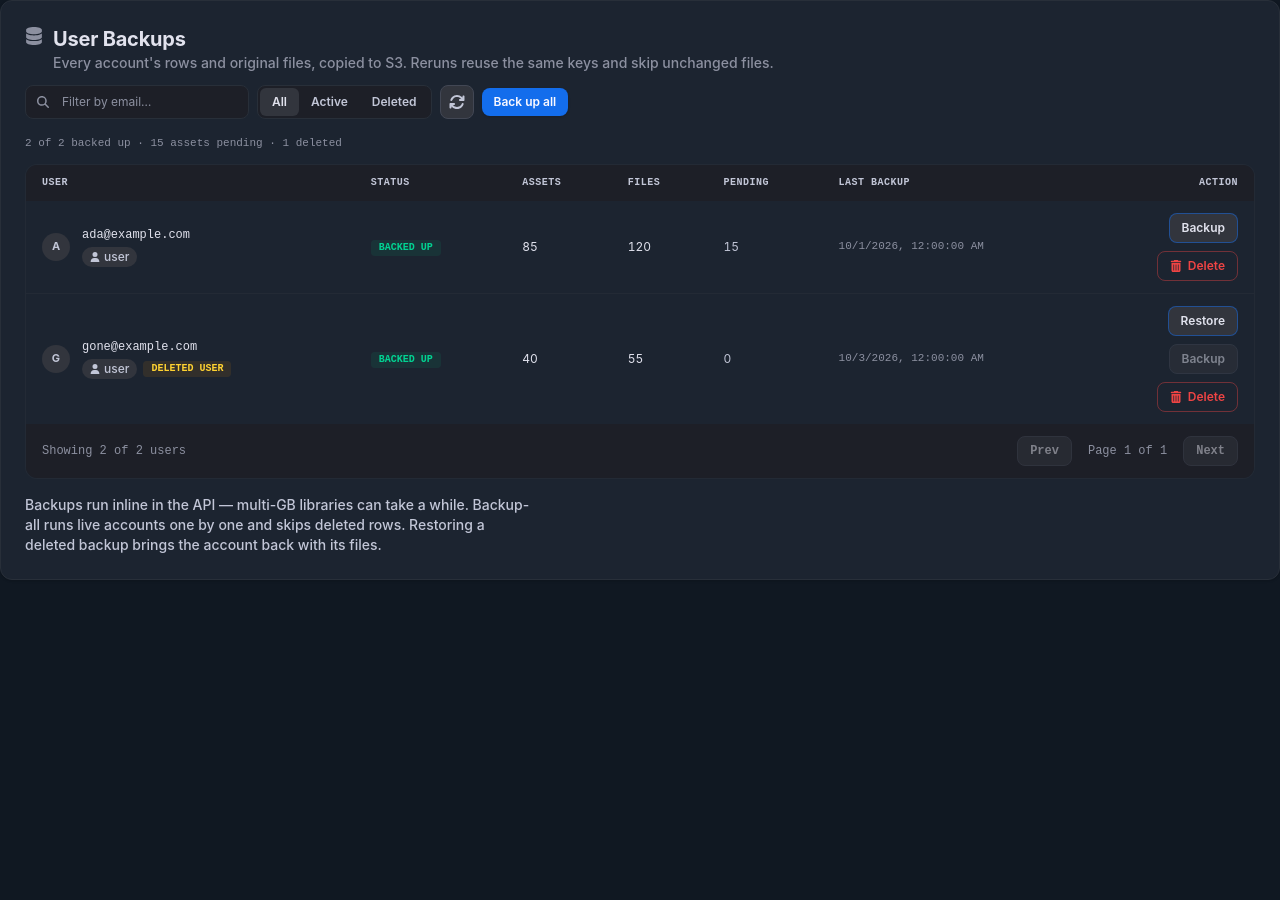
Test case: BackupSection orphans › confirms a restore, toasts the actual address and refreshes the list
This screenshot has width=1280, height=900.
Expected: the text "gone@example.com" is shown, [82,340,197,354]
Click the button with aria-label "Restore gone@example.com" at [1203, 320], box [1168,306,1238,336]
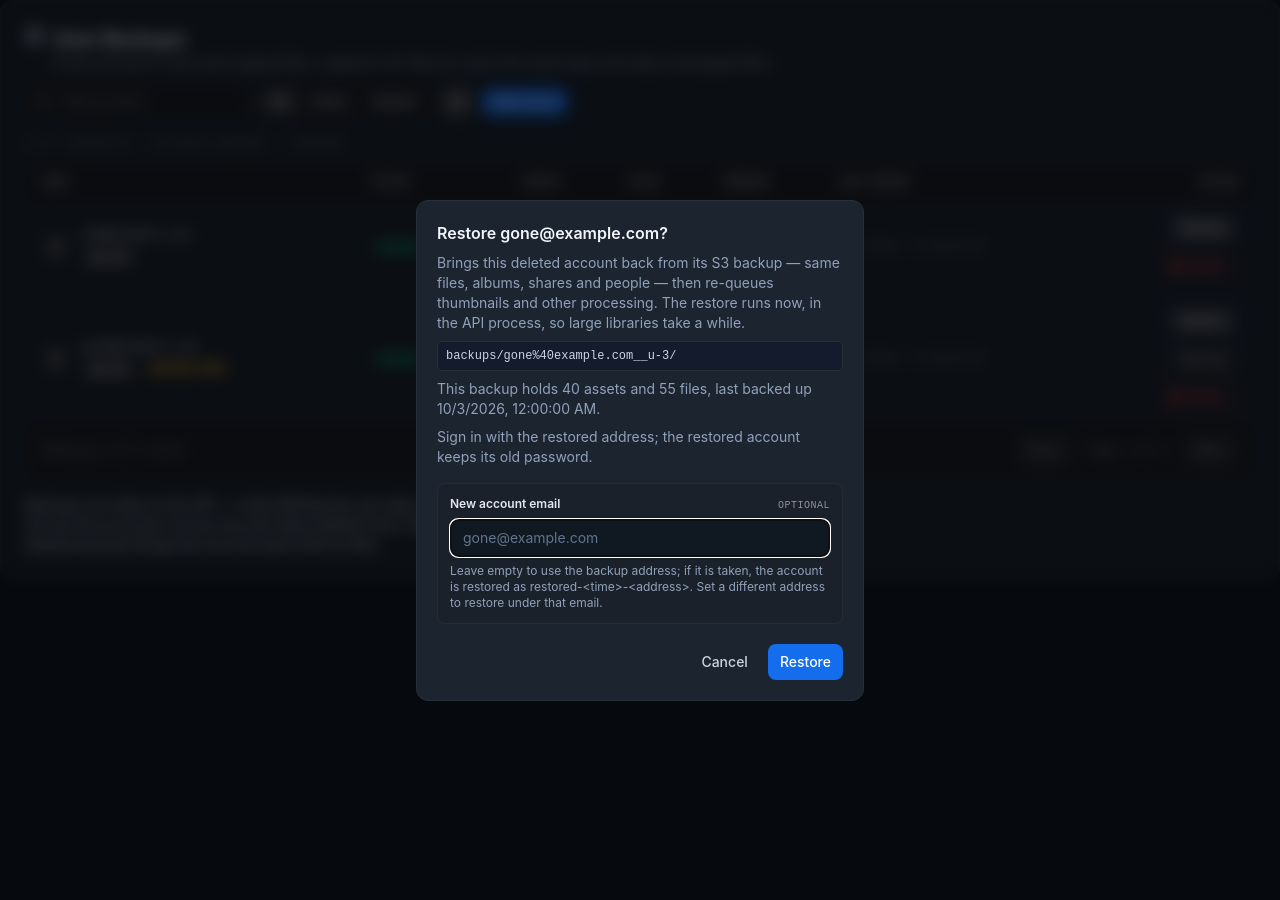
Expected: the heading "Restore gone@example.com?" is shown, [437,222,668,242]
Expected: the text "backups/gone%40example.com__u-3/" is shown, [437,340,843,370]
Expected: the text "40 assets and 55 files" is shown, [437,378,843,418]
Click the button "Restore" at [805, 662], box [768,644,843,680]
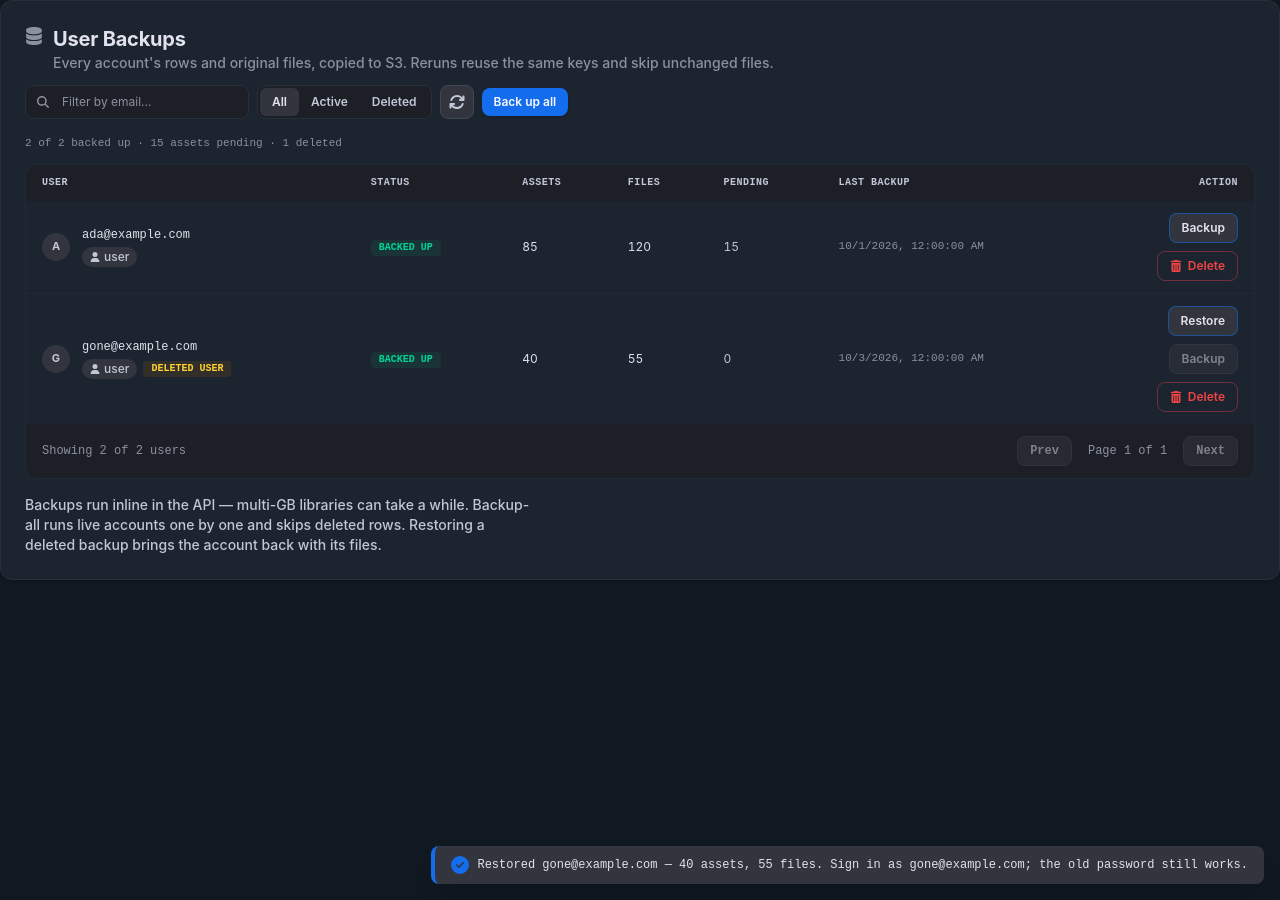
Expected: the text "Restored gone@example.com — 40 assets, 55 files" is shown, [478,858,1248,872]
